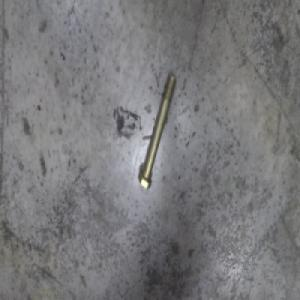Bolt: (136, 73, 179, 188)
